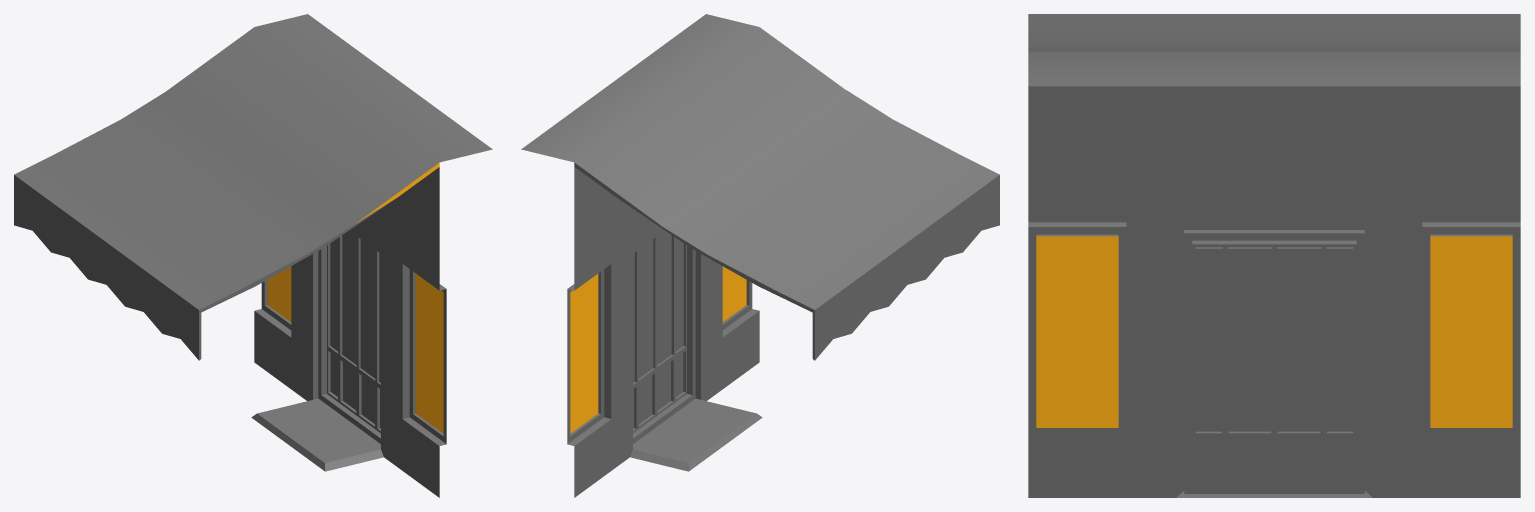
The model's file is O5_Façade_Boutique_Porte_Double_Fenetre_Tonnelle 1.fbx.
3 views of the same model, side by side, from view 1: azimuth 30°, elevation 25°; view 2: azimuth 150°, elevation 25°; view 3: azimuth 270°, elevation 25° (orthographic). The views are drawn at different scales.
Visible parts, largest first — view 1: O5_Façade_Boutique_Porte_Double_Fenetre_Tonnelle; view 2: O5_Façade_Boutique_Porte_Double_Fenetre_Tonnelle; view 3: O5_Façade_Boutique_Porte_Double_Fenetre_Tonnelle.
Part boxes in pixels (x1,y1,x2,y2): O5_Façade_Boutique_Porte_Double_Fenetre_Tonnelle: (14,14,492,497); O5_Façade_Boutique_Porte_Double_Fenetre_Tonnelle: (521,14,999,497); O5_Façade_Boutique_Porte_Double_Fenetre_Tonnelle: (1028,14,1520,497).
Size of the model in its own units: 2.75 by 3 by 3.
